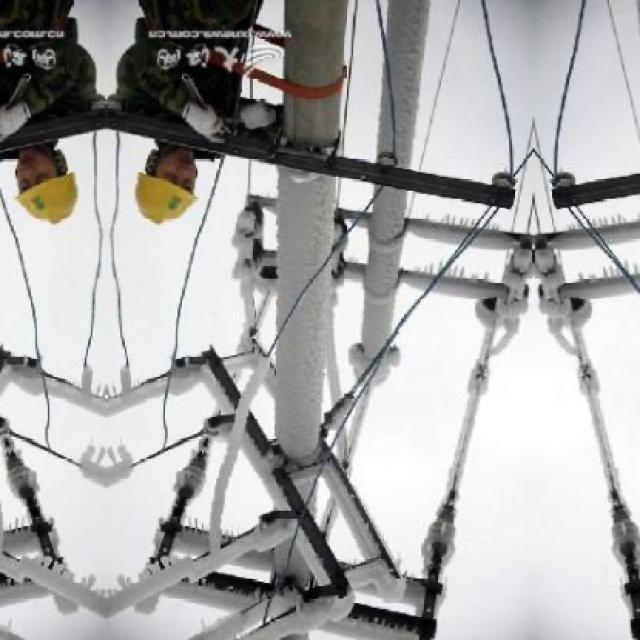con casco: (136, 133, 235, 243), (1, 128, 100, 235)
